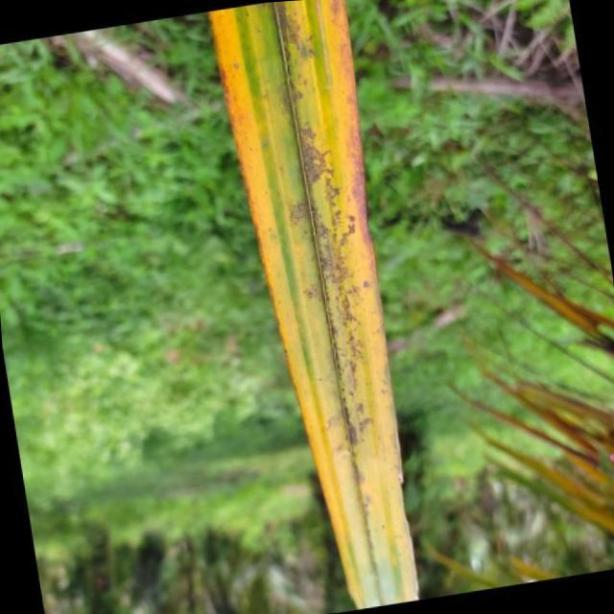Megnesium: (213, 0, 425, 614)
